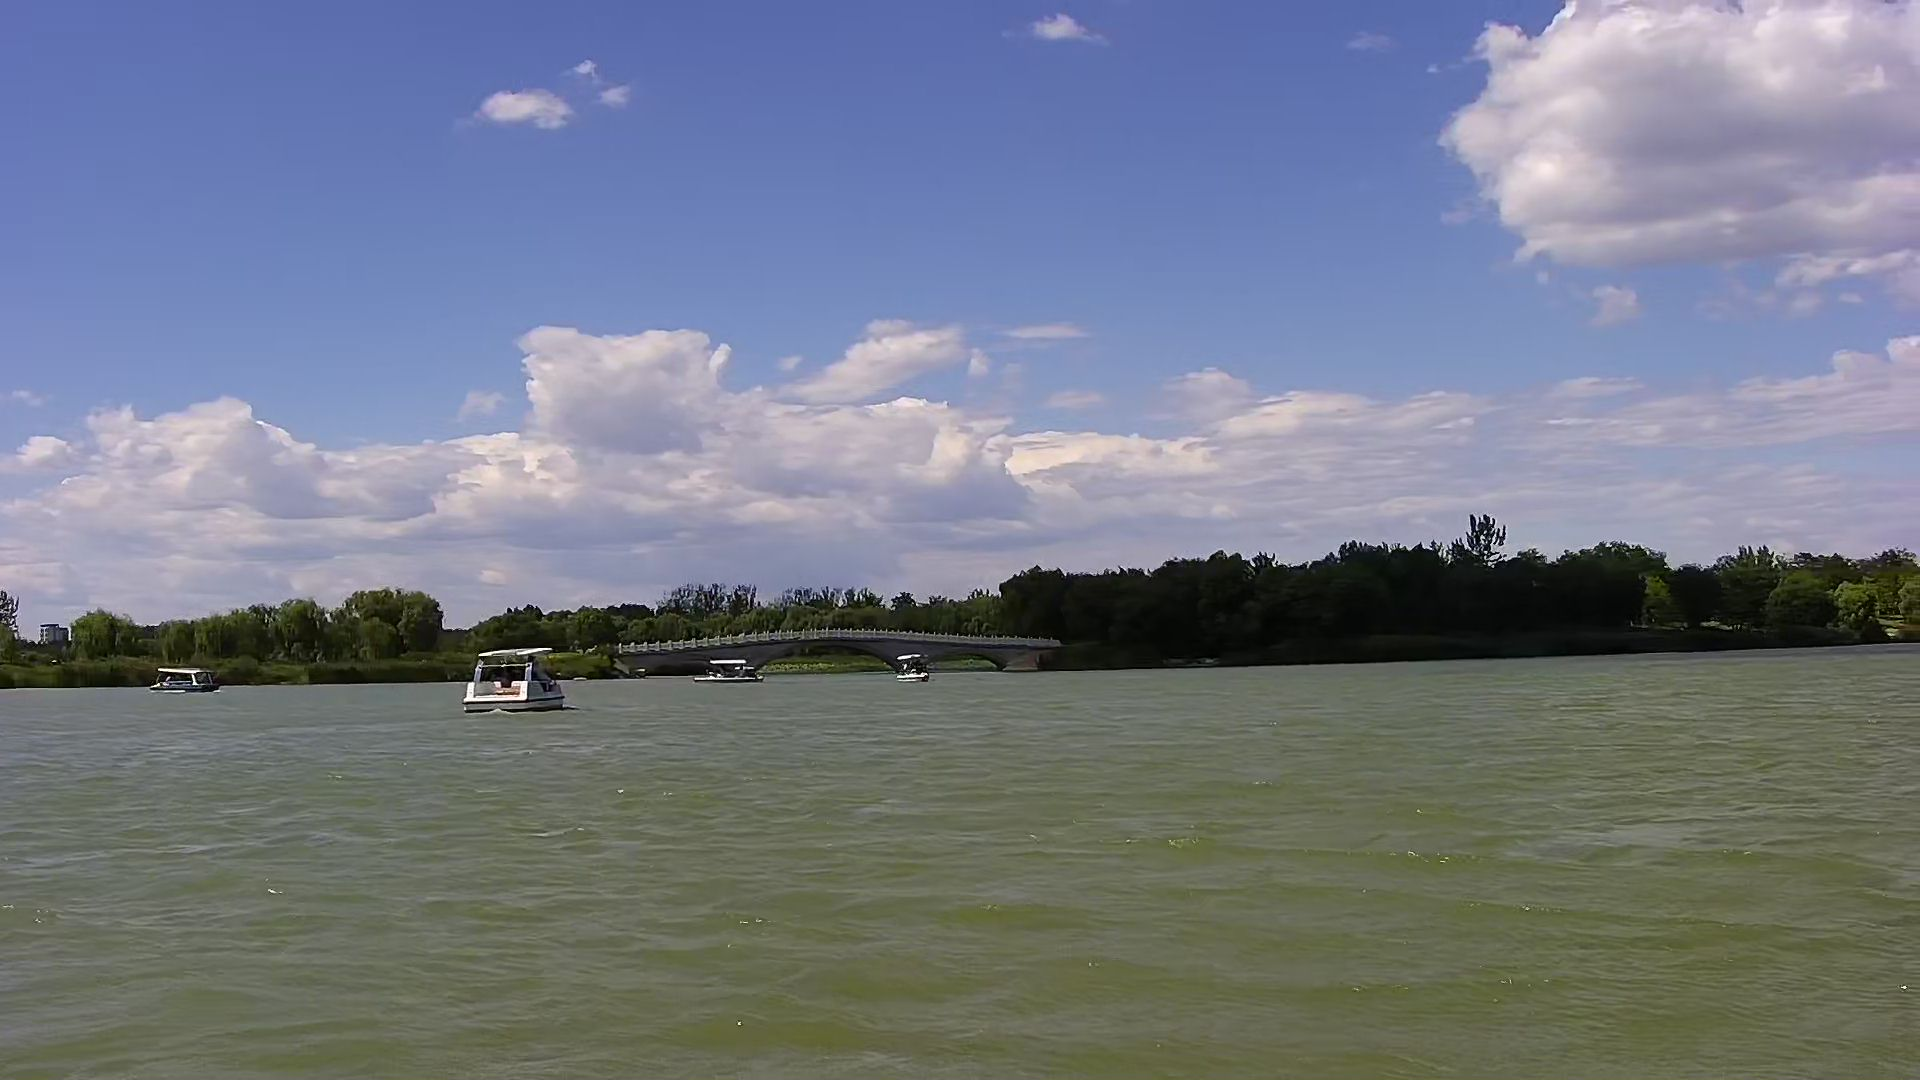boat: (462, 641, 566, 717), (692, 654, 765, 691), (148, 661, 219, 698)
bridge: (611, 622, 1054, 682)
